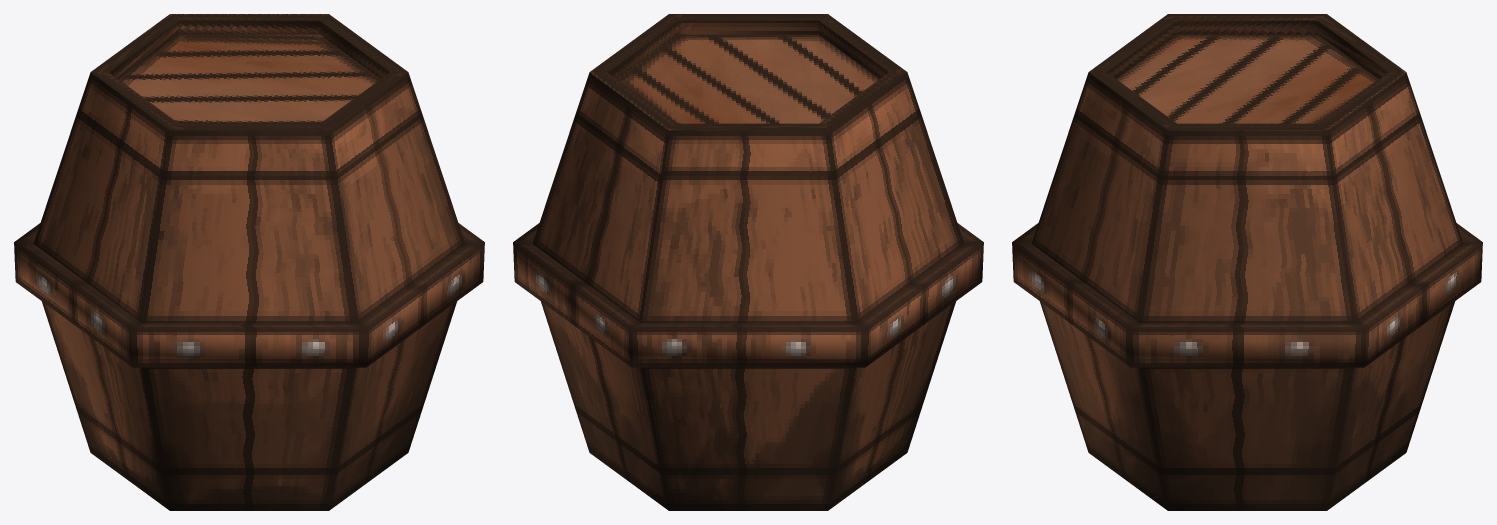
Rendered from barrel.glb.
3 renders of one model, left to right at view 1: azimuth 30°, elevation 25°; view 2: azimuth 150°, elevation 25°; view 3: azimuth 270°, elevation 25°, orthographic.
Parts seen in each view (by area): view 1: Cylinder; view 2: Cylinder; view 3: Cylinder.
Boxes of the visible parts, box(x1,y1,x2,y2) form: Cylinder: box(14, 14, 484, 510); Cylinder: box(513, 14, 983, 510); Cylinder: box(1012, 14, 1482, 510).
Size of the model in its own units: 1.94 by 2 by 2.24.
Materials: 1 (1 with a texture image).
